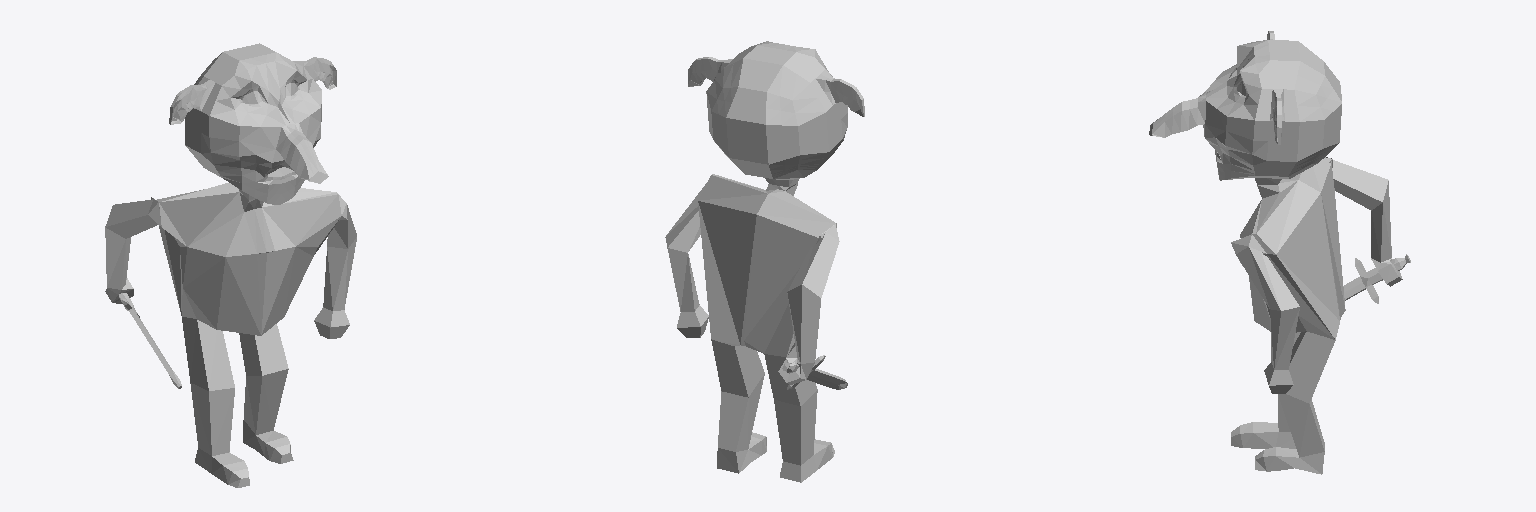
File: andrzejAttack_000060.obj
3 renders of one model, left to right at view 1: azimuth 30°, elevation 25°; view 2: azimuth 150°, elevation 25°; view 3: azimuth 270°, elevation 25°, orthographic.
Parts seen in each view (by area): view 1: Cube; view 2: Cube; view 3: Cube.
Boxes of the visible parts, x1=… form: Cube: x1=105, y1=43, x2=356, y2=487; Cube: x1=665, y1=41, x2=864, y2=482; Cube: x1=1149, y1=31, x2=1410, y2=474.
Bounding box in the file's own units: 4.81 × 9.23 × 5.35.